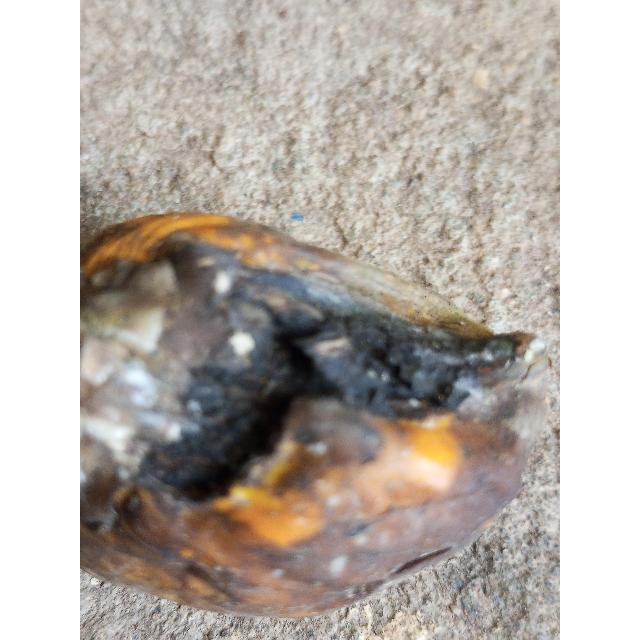damaged: (80, 212, 548, 617)
